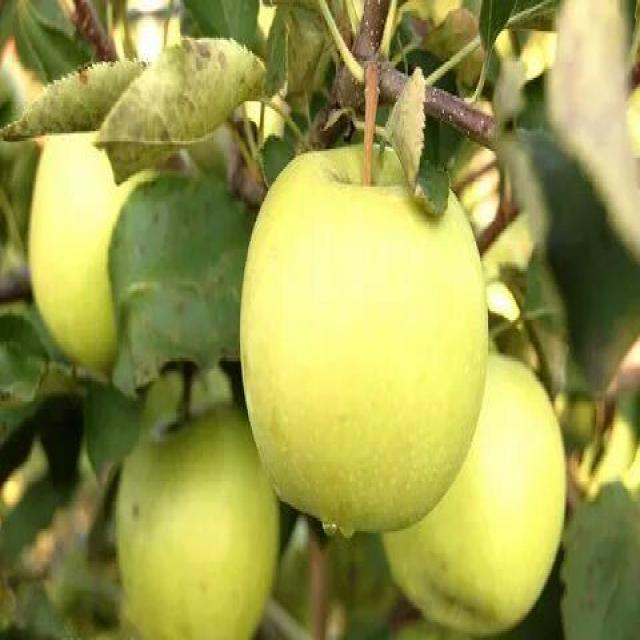Fresh Apple: (240, 144, 490, 538)
